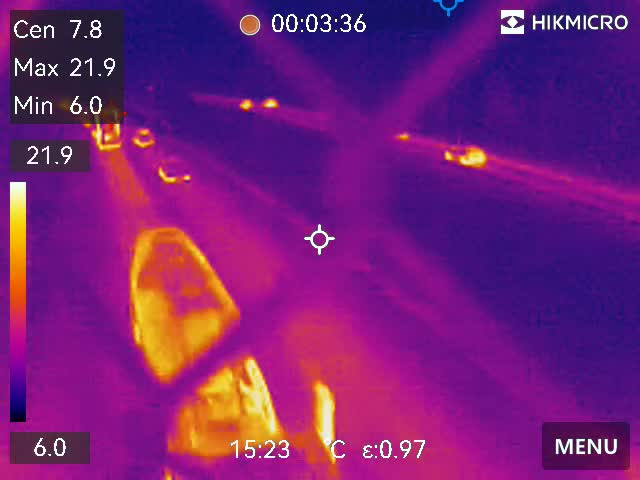heavyTruck: (128, 228, 339, 480)
